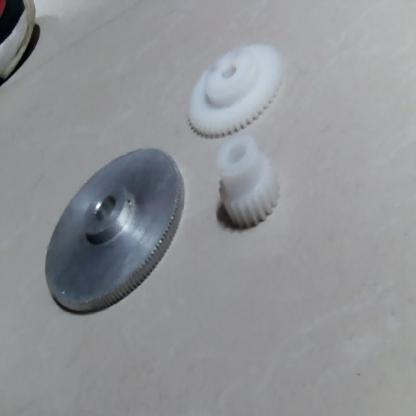FOD: (46, 137, 183, 328), (185, 35, 284, 138), (212, 131, 290, 234)
